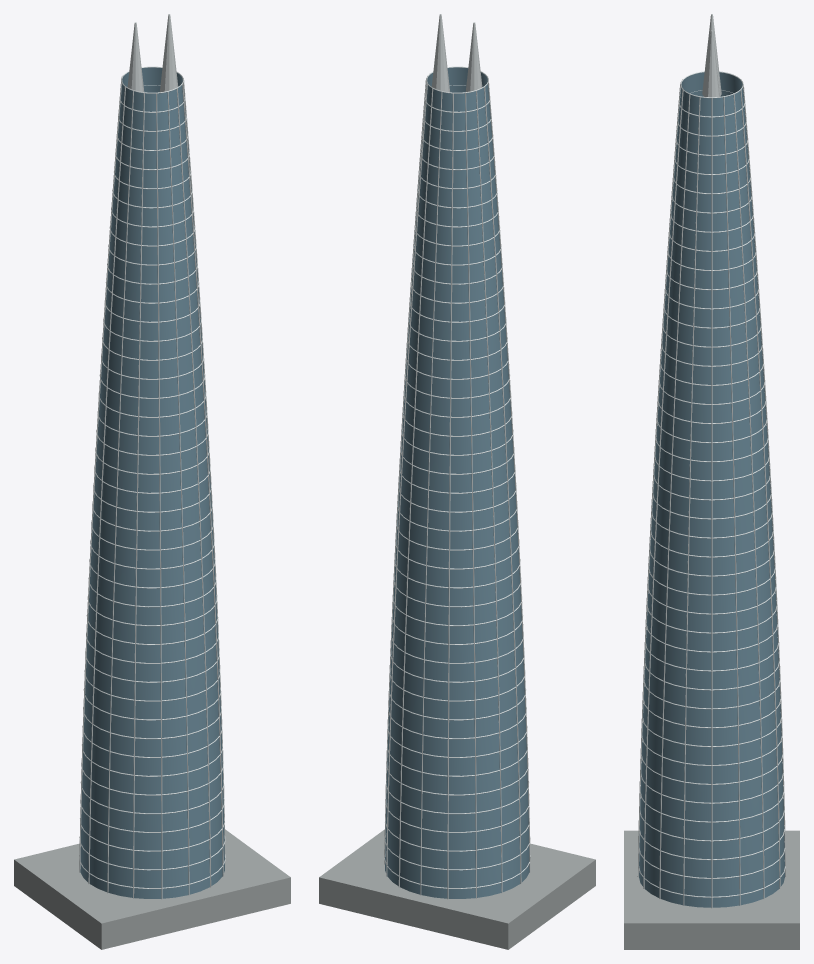
The model's file is seoul-tower.glb.
The picture shows the model from 3 angles, left to right: view 1: azimuth 30°, elevation 25°; view 2: azimuth 150°, elevation 25°; view 3: azimuth 270°, elevation 25°; orthographic projection.
Parts seen in each view (by area): view 1: Seoul tower glazing, Cube, Silver vertical rib.011, Silver vertical rib.008, Silver vertical rib.010, Silver vertical rib.013, Silver vertical rib.014, Silver vertical rib.009, Silver vertical rib.007, Silver vertical rib.012, Silver vertical rib.015, Cone (+1 smaller); view 2: Seoul tower glazing, Cube, Silver vertical rib.005, Silver vertical rib.008, Silver vertical rib.006, Silver vertical rib.003, Silver vertical rib.002, Silver vertical rib.007, Silver vertical rib.009, Silver vertical rib.004, Silver vertical rib.001, Cone (+1 smaller); view 3: Seoul tower glazing, Cube, Silver vertical rib, Silver vertical rib.003, Silver vertical rib.013, Silver vertical rib.002, Silver vertical rib.014, Silver vertical rib.001, Silver vertical rib.015, Silver vertical rib.004, Silver vertical rib.012, Cone (+1 smaller).
Boxes of the visible parts, x1,y1,x2,y2 form: Seoul tower glazing: (80,67,224,898); Cube: (14,829,290,949); Silver vertical rib.011: (156,93,162,899); Silver vertical rib.008: (88,87,125,883); Silver vertical rib.010: (133,93,144,898); Silver vertical rib.013: (176,88,211,887); Silver vertical rib.014: (182,83,223,876); Silver vertical rib.009: (107,91,133,893); Silver vertical rib.007: (79,82,121,872); Silver vertical rib.012: (167,91,189,895); Silver vertical rib.015: (183,80,225,864); Cone: (160,14,178,92); Seoul tower glazing: (385,67,529,898); Cube: (319,829,595,949); Silver vertical rib.005: (447,93,453,899); Silver vertical rib.008: (484,87,521,883); Silver vertical rib.006: (465,93,476,898); Silver vertical rib.003: (398,88,433,887); Silver vertical rib.002: (386,83,427,876); Silver vertical rib.007: (476,91,502,893); Silver vertical rib.009: (488,82,530,872); Silver vertical rib.004: (420,91,442,895); Silver vertical rib.001: (384,80,426,864); Cone: (431,14,449,92); Seoul tower glazing: (639,72,784,907); Cube: (624,830,799,949); Silver vertical rib: (711,98,712,908); Silver vertical rib.003: (740,90,780,888); Silver vertical rib.013: (643,90,683,888); Silver vertical rib.002: (733,94,764,898); Silver vertical rib.014: (659,94,690,898); Silver vertical rib.001: (723,97,740,905); Silver vertical rib.015: (683,97,700,905); Silver vertical rib.004: (743,84,786,877); Silver vertical rib.012: (637,84,680,877); Cone: (703,30,720,97).
Bounding box in the file's own units: 45 × 199 × 36.
